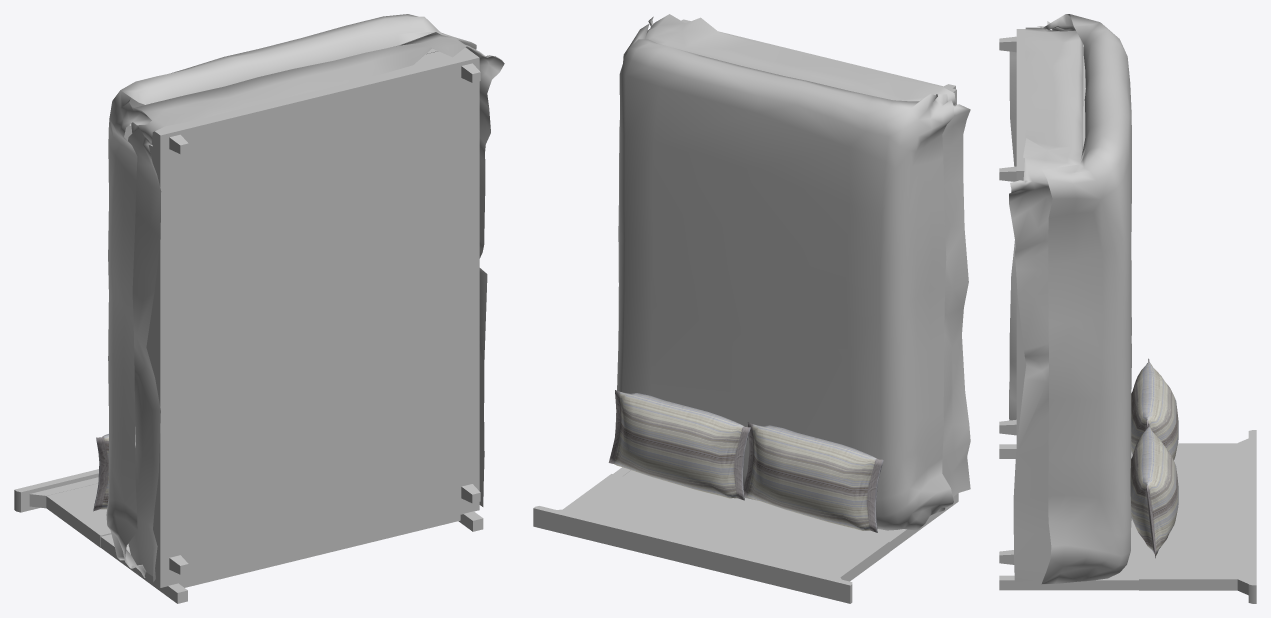
The model's file is BedQueen.FBX.
3 views of the same model, side by side, from view 1: azimuth 30°, elevation 25°; view 2: azimuth 150°, elevation 25°; view 3: azimuth 270°, elevation 25° (orthographic). The views are drawn at different scales.
Parts seen in each view (by area): view 1: PillowLarge; view 2: PillowLarge; view 3: PillowLarge.
Boxes of the visible parts, box(x1,y1,x2,y2) form: PillowLarge: box(14, 14, 504, 603); PillowLarge: box(533, 14, 970, 603); PillowLarge: box(999, 14, 1256, 603).
Bounding box in the file's own units: 170 × 220 × 117.
